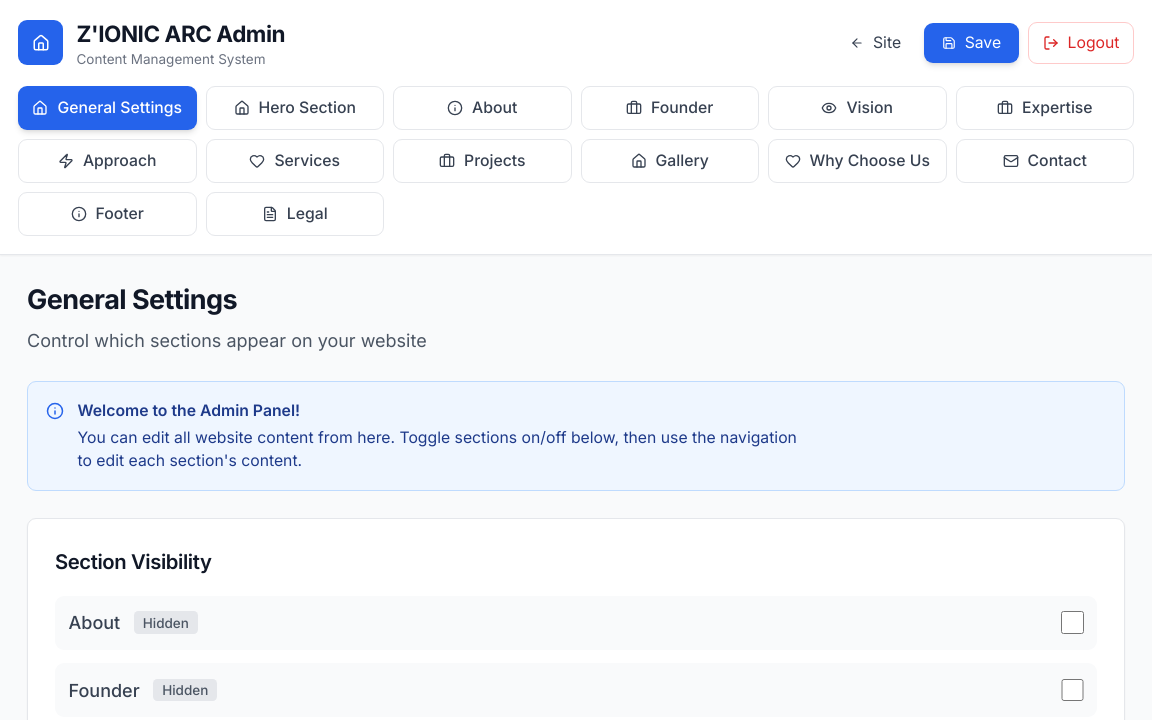
Test case: AdminDashboard – Services section (no Firebase write) › Add Service button is present in Services tab
Check: the heading "Z'IONIC ARC Admin" is shown, box [76, 18, 285, 50]
What coordinates should you click on to do the following:
click the button "Services"
I would click on:
 (295, 161)
Its box is [206, 139, 384, 183].
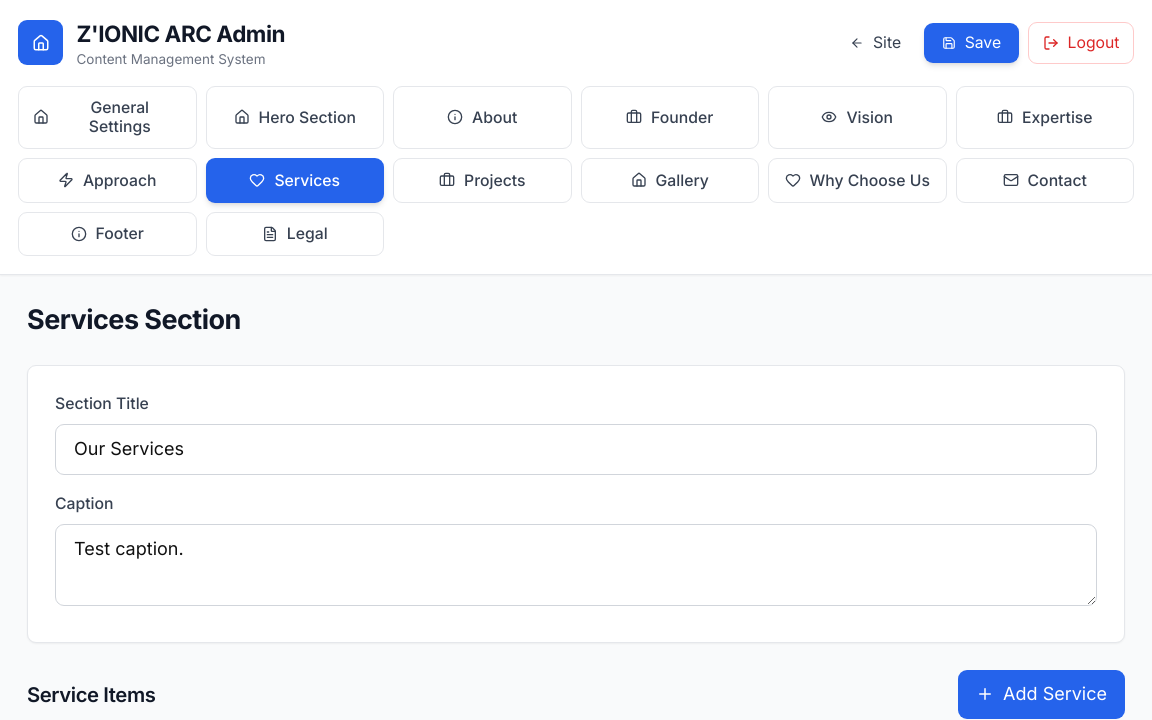
Check: the button "Add Service" is shown, box [958, 670, 1125, 719]
